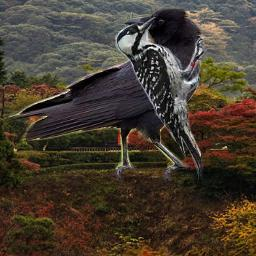Crow: (5, 7, 207, 181)
Woodpecker: (114, 17, 208, 184)
